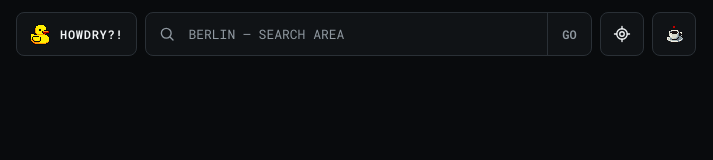
Test: LocationSearch › keeps only results from the latest query
In the dropdown: (363, 34) x1=178 y1=13 x2=547 y2=55, type "Ca"
Wait 250 ms
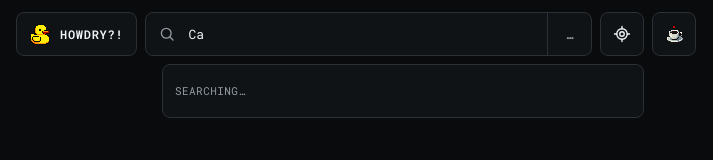
Replace the text in the dropdown with "Car": (363, 34) x1=178 y1=13 x2=547 y2=55
Wait 250 ms
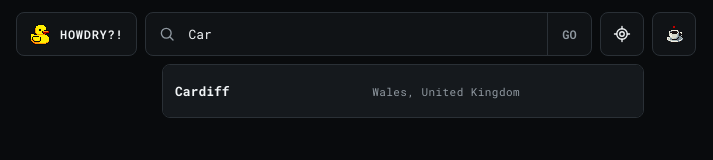
Result: the option "Cardiff Wales, United Kingdom" is shown at x1=163 y1=65 x2=643 y2=117
